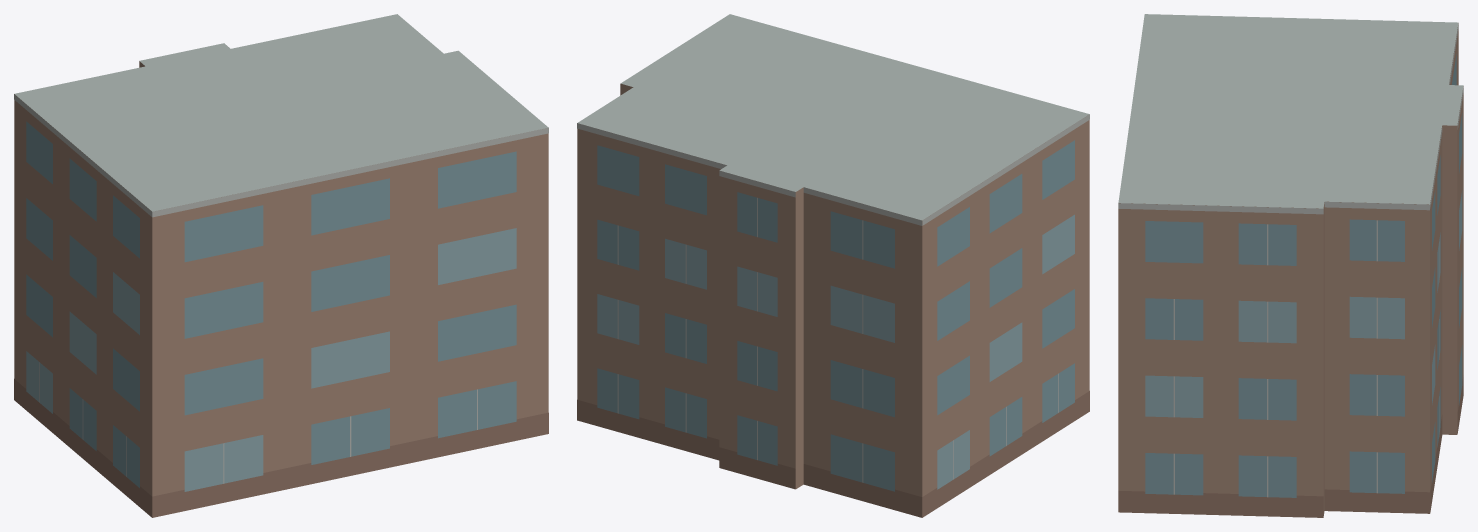
The model's file is survey-upis-33002200.glb.
The picture shows the model from 3 angles, left to right: view 1: azimuth 30°, elevation 25°; view 2: azimuth 150°, elevation 25°; view 3: azimuth 270°, elevation 25°; orthographic projection. The views are drawn at different scales.
Visible parts, largest first — view 1: survey-upis-33002200.tmp; view 2: survey-upis-33002200.tmp; view 3: survey-upis-33002200.tmp.
Part boxes in pixels (box(x1,y1,x2,y2)): survey-upis-33002200.tmp: box(14, 14, 548, 517); survey-upis-33002200.tmp: box(577, 14, 1089, 517); survey-upis-33002200.tmp: box(1118, 14, 1463, 517).
Bounding box in the file's own units: 17.68 × 13.1 × 13.26.
